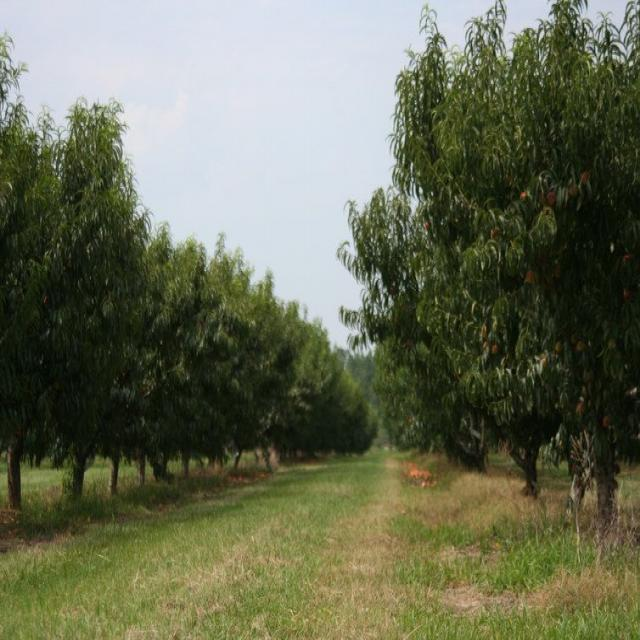Peach: (415, 66, 640, 381)
